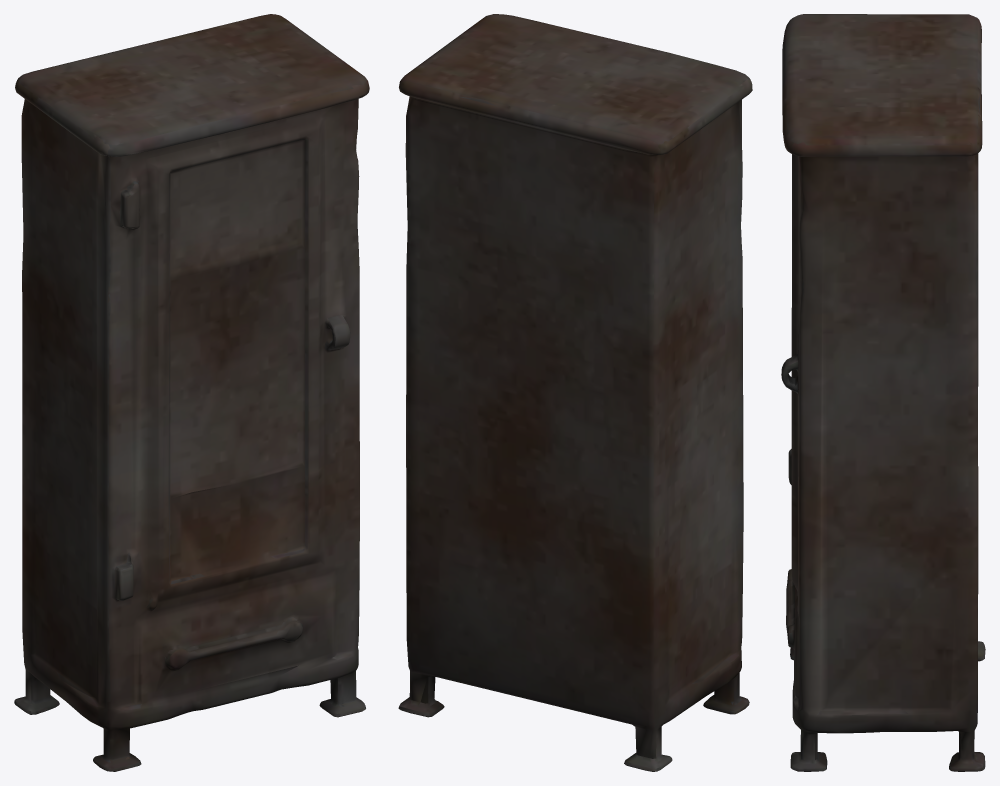
File: weathered-iron-medicine-cabinet-v001.glb
3 views of the same model, side by side, from view 1: azimuth 30°, elevation 25°; view 2: azimuth 150°, elevation 25°; view 3: azimuth 270°, elevation 25° (orthographic).
Parts seen in each view (by area): view 1: weathered-iron-medicine-cabinet; view 2: weathered-iron-medicine-cabinet; view 3: weathered-iron-medicine-cabinet.
Boxes of the visible parts, x1,y1,x2,y2 form: weathered-iron-medicine-cabinet: (14, 14, 369, 771); weathered-iron-medicine-cabinet: (398, 14, 752, 771); weathered-iron-medicine-cabinet: (781, 14, 985, 771).
Bounding box in the file's own units: 0.7282 × 1.63 × 0.4756.
Materials: 1 (1 with a texture image).
